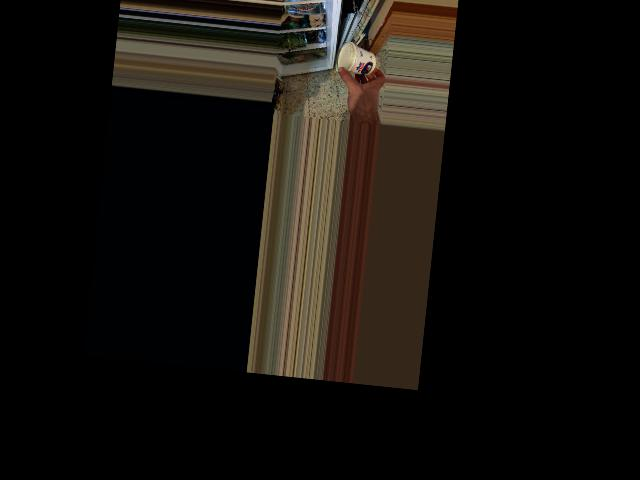cotage: (337, 42, 377, 79)
